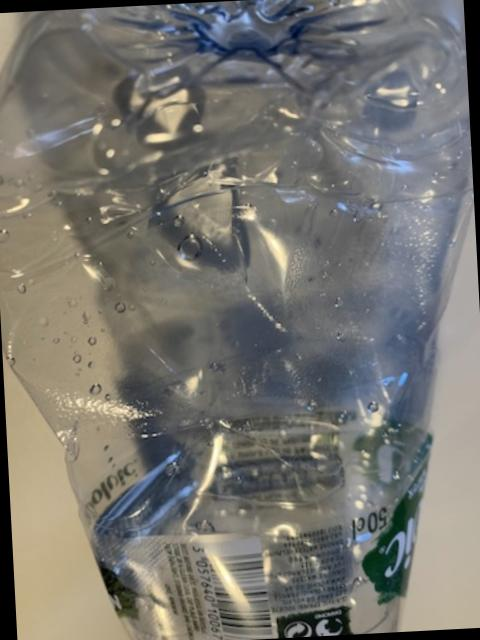plastic: (0, 0, 473, 640)
